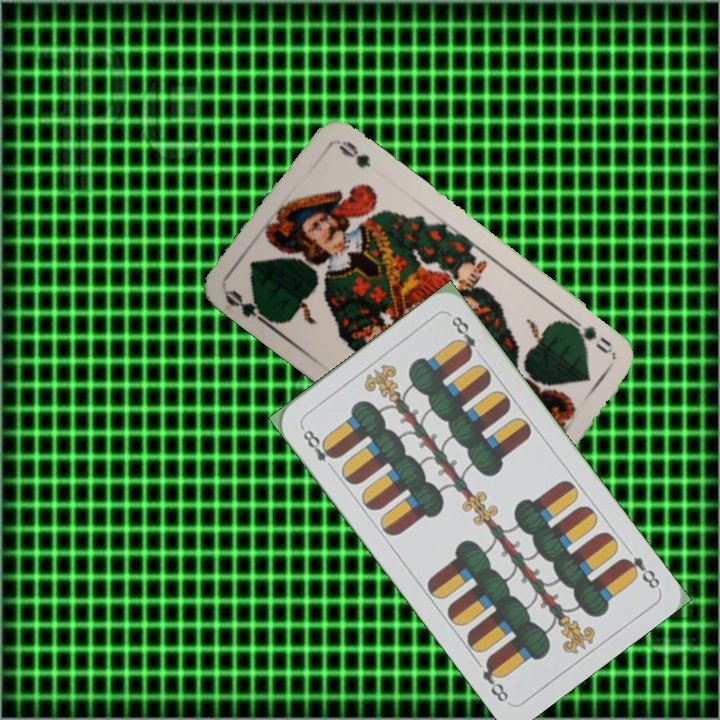E8: (297, 423, 341, 474), (617, 553, 663, 592)
GO: (563, 313, 617, 358), (221, 286, 275, 330)
